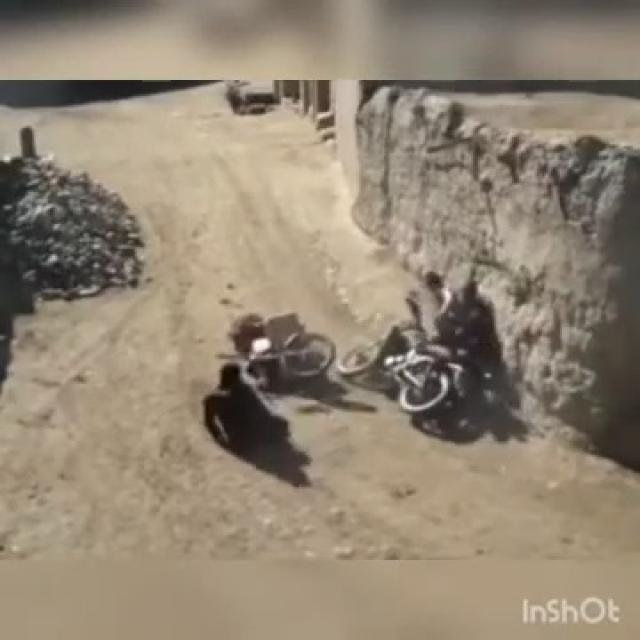accident: (343, 327, 491, 425), (217, 303, 338, 386)
